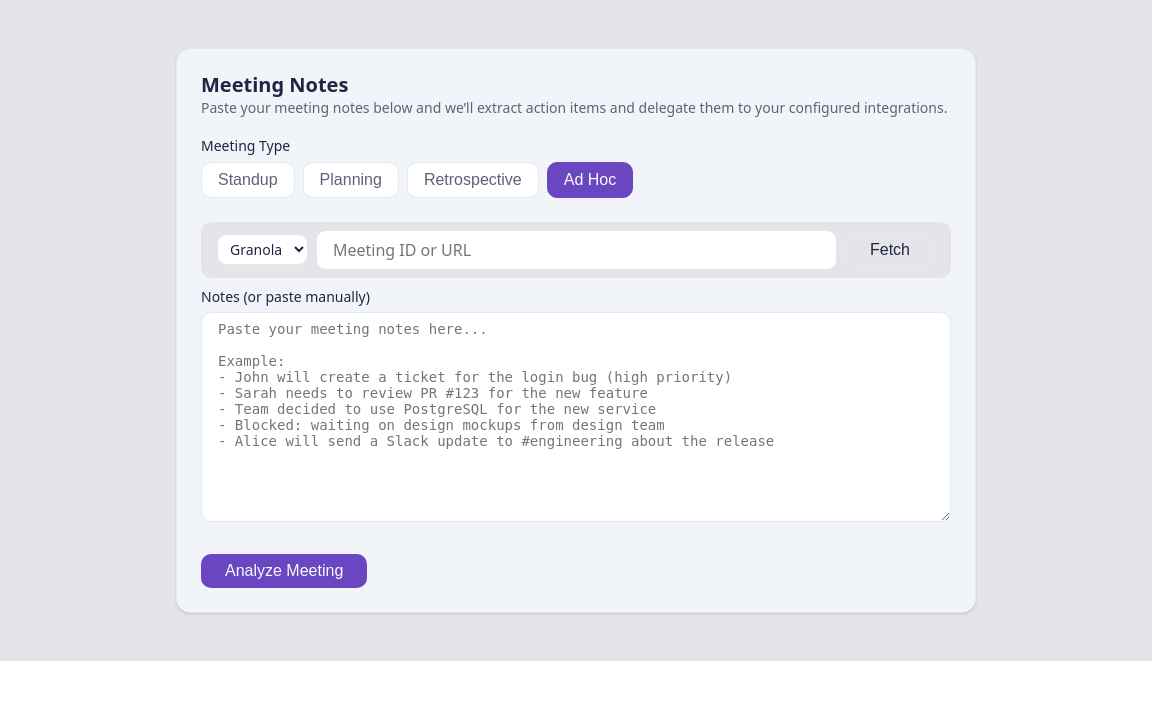
Test case: MeetingInput › Fetch error shows an error message
This screenshot has width=1152, height=720.
Step 1. Type "bad-ref" into the field labelled "Meeting ID or URL" → (576, 250), box x1=316 y1=230 x2=837 y2=270
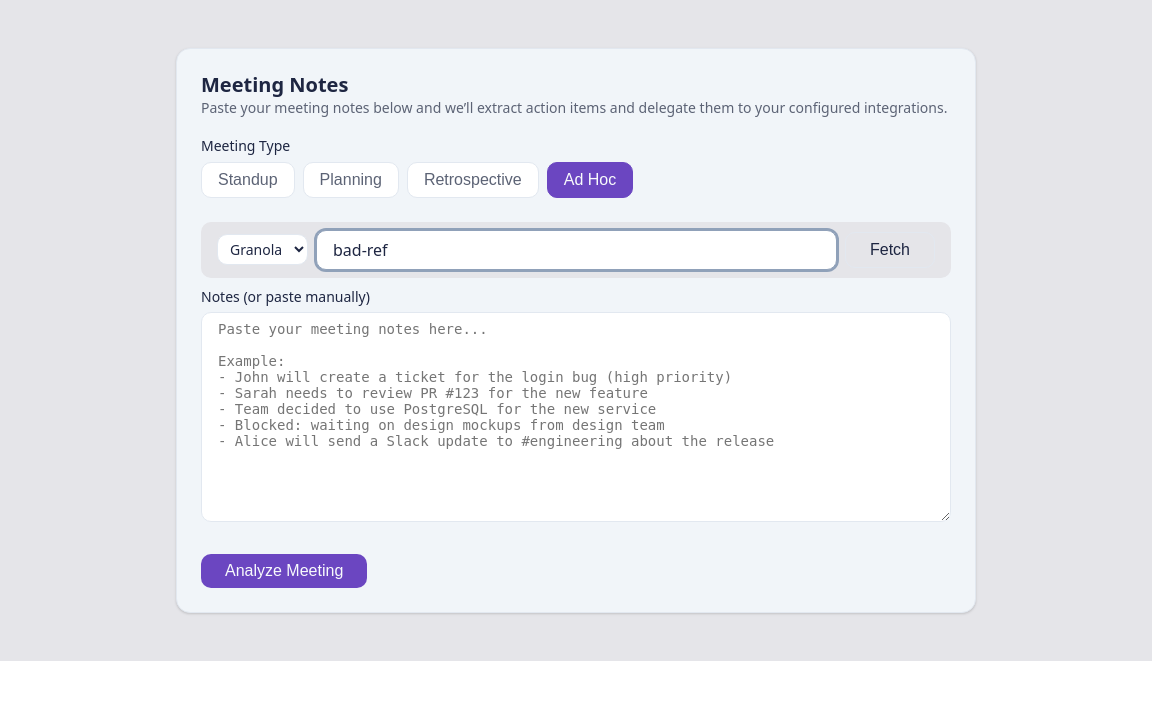
Step 2. Click the button "Fetch" → (890, 250), box x1=845 y1=232 x2=935 y2=268
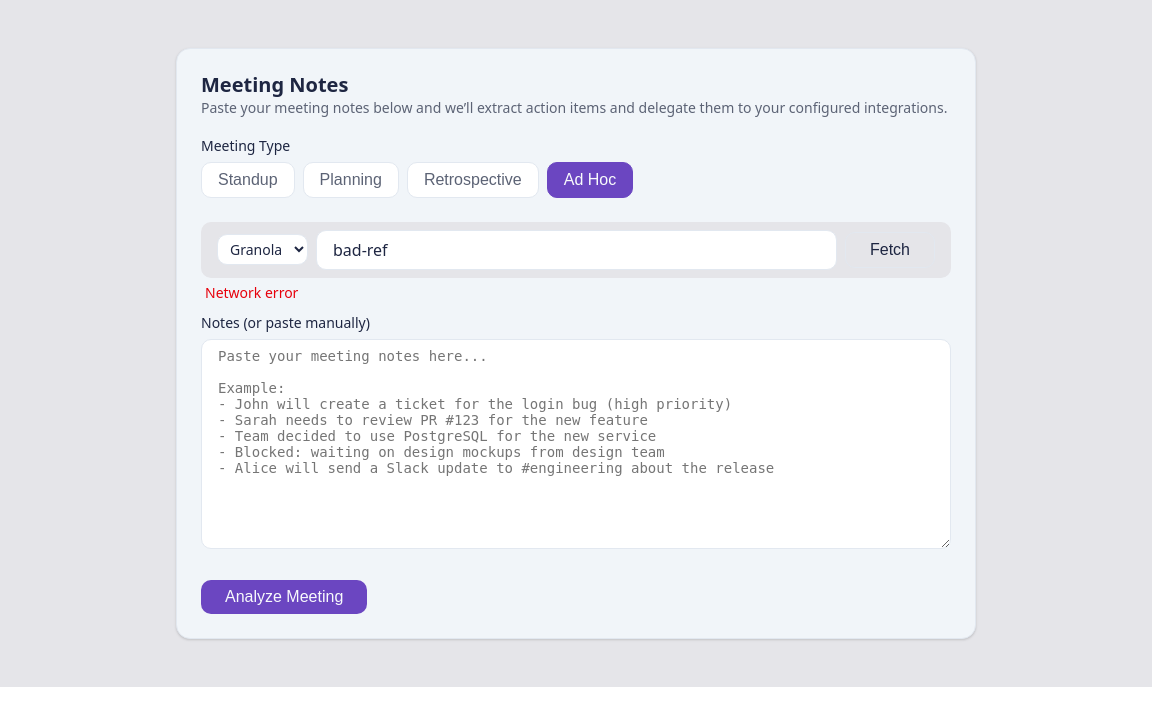
Now the text "Network error" is shown, box x1=205 y1=283 x2=298 y2=302
